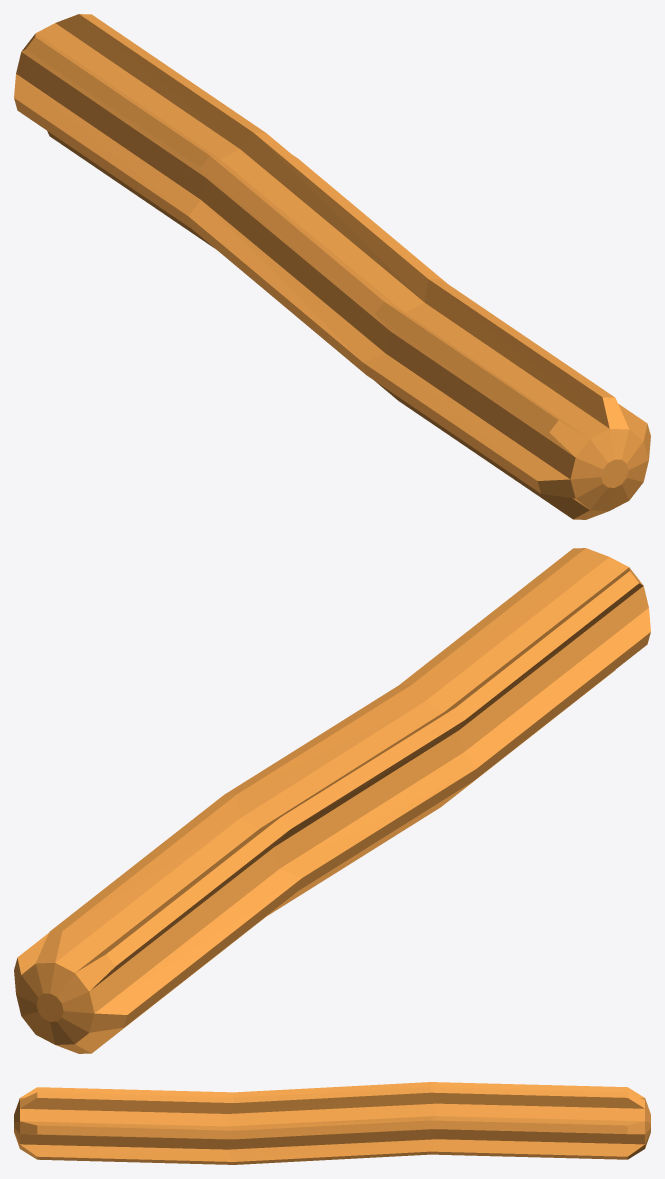
3 renders of one model, top to bottom at view 1: azimuth 30°, elevation 25°; view 2: azimuth 150°, elevation 25°; view 3: azimuth 270°, elevation 25°, orthographic. The views are drawn at different scales.
Visible parts, largest first — view 1: Churro; view 2: Churro; view 3: Churro.
Part boxes in pixels (x1=…): Churro: x1=14, y1=14, x2=650, y2=519; Churro: x1=14, y1=548, x2=650, y2=1053; Churro: x1=14, y1=1082, x2=650, y2=1164.
Size of the model in its own units: 20.21 by 23.34 by 174.
Materials: 1 (1 with a texture image).
